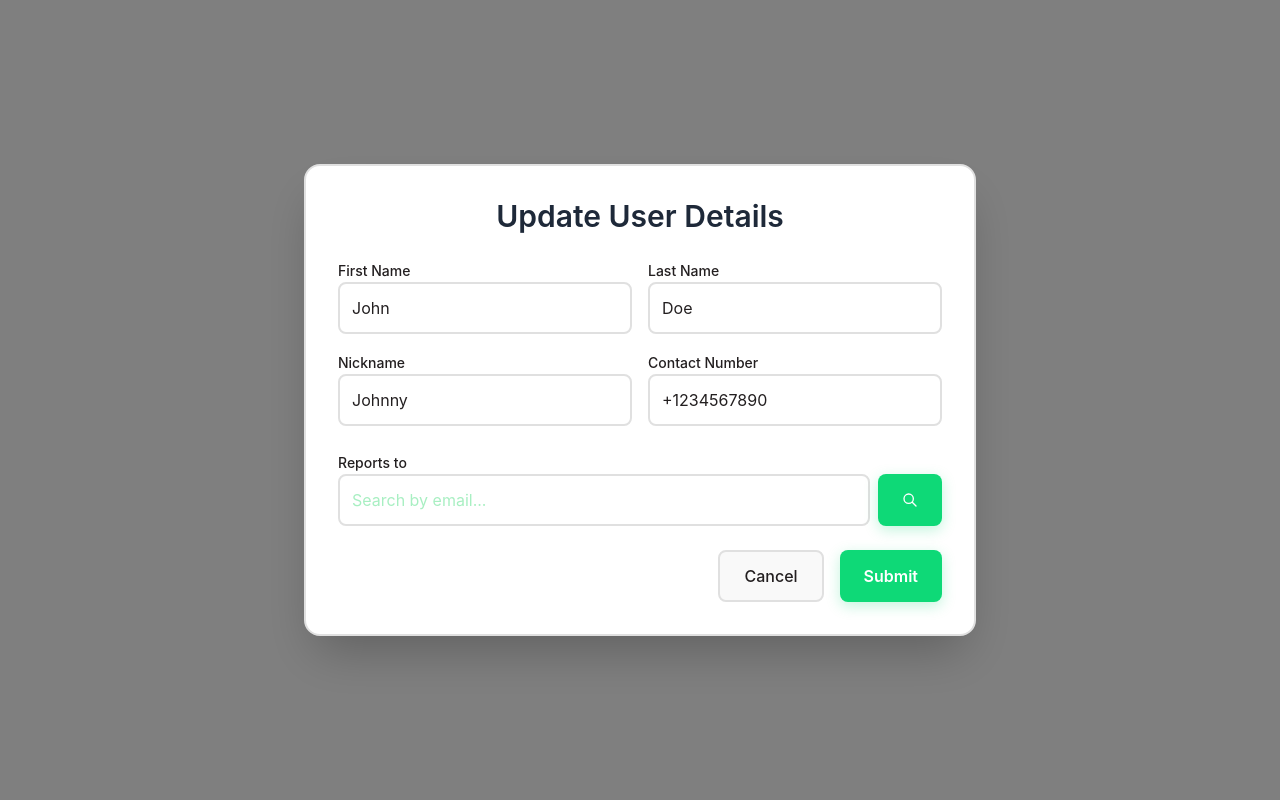
it: AdminUserUpdateModal › should allow selecting a user from search results
The image size is (1280, 800).
// Perform search
In the field with placeholder "Search by email...": {"x": 604, "y": 500} left=338, top=474, right=870, bottom=526, type "manager"
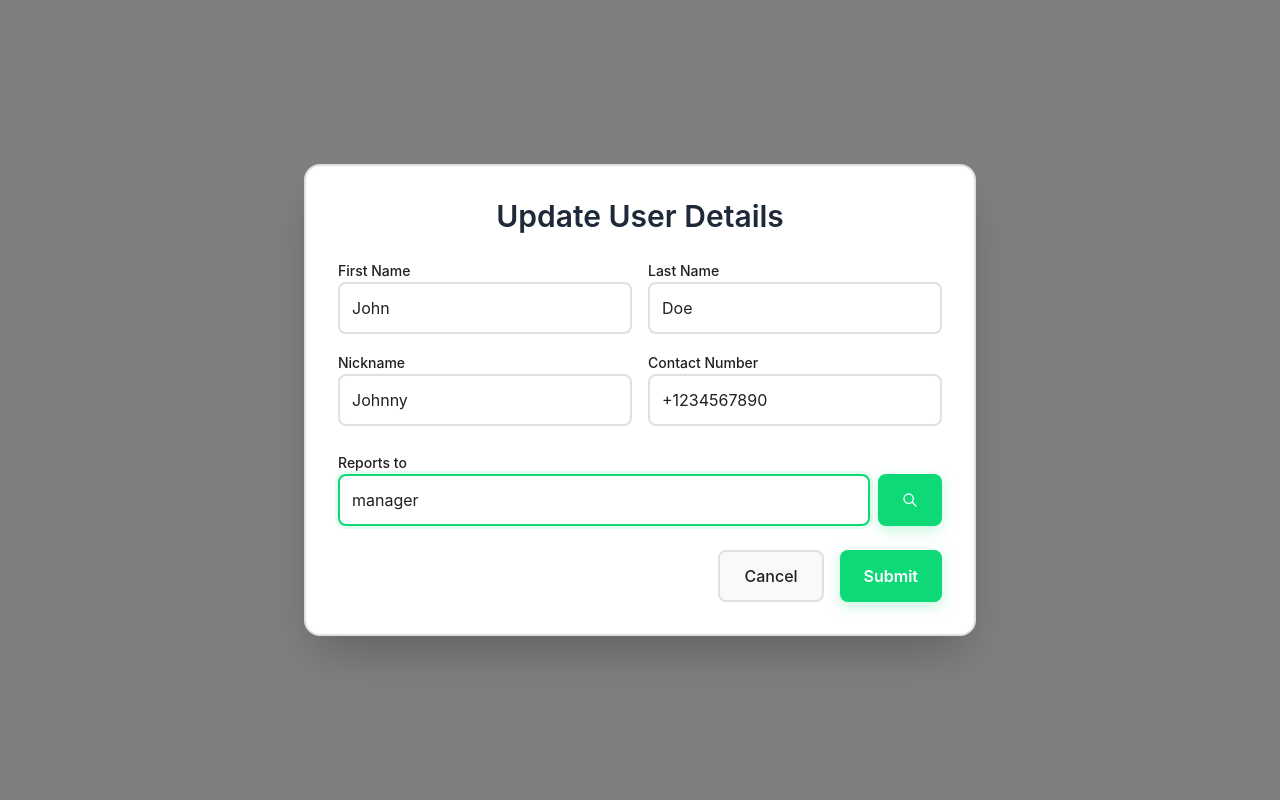
Click the button named "Search users": {"x": 910, "y": 500} left=878, top=474, right=942, bottom=526
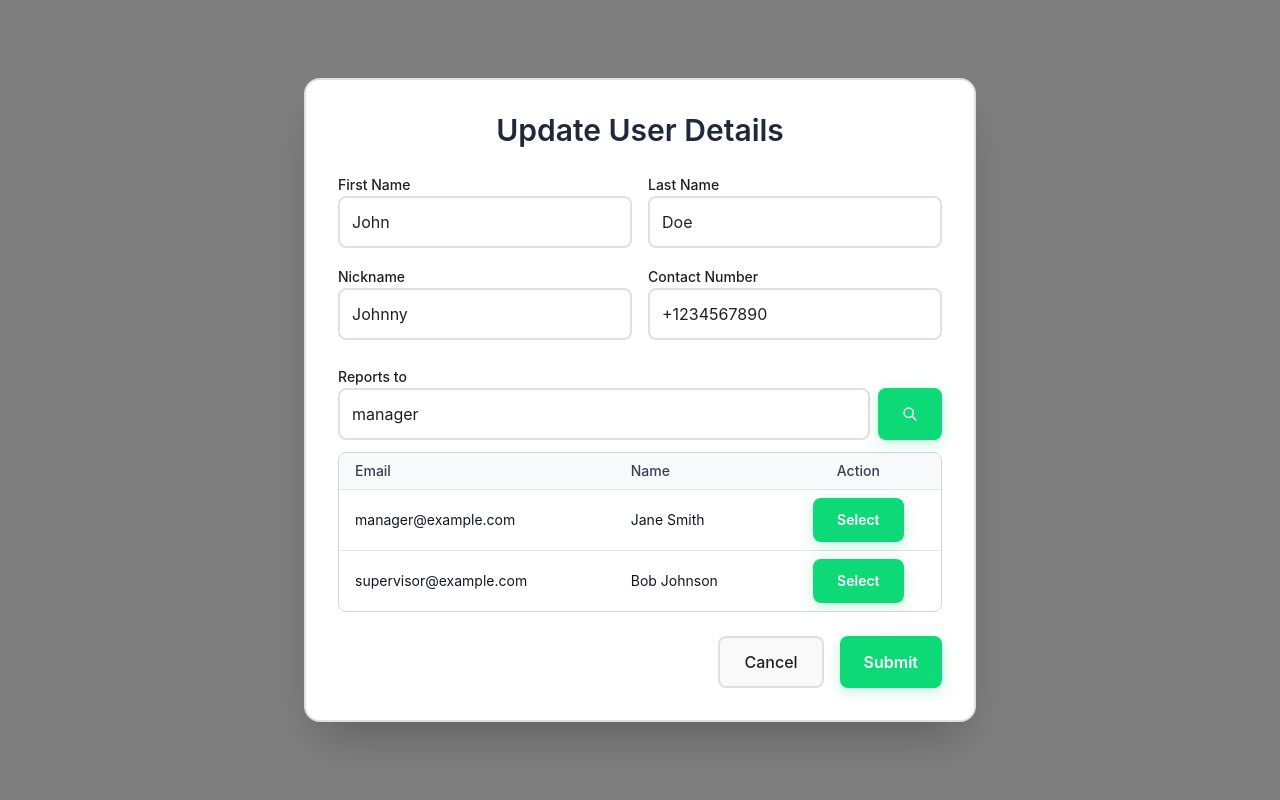
Expected: the text "manager@example.com" is shown, left=339, top=490, right=615, bottom=550
// Click select button
Click the button "Select" in the row of "manager@example.com": {"x": 858, "y": 520} left=813, top=498, right=904, bottom=542
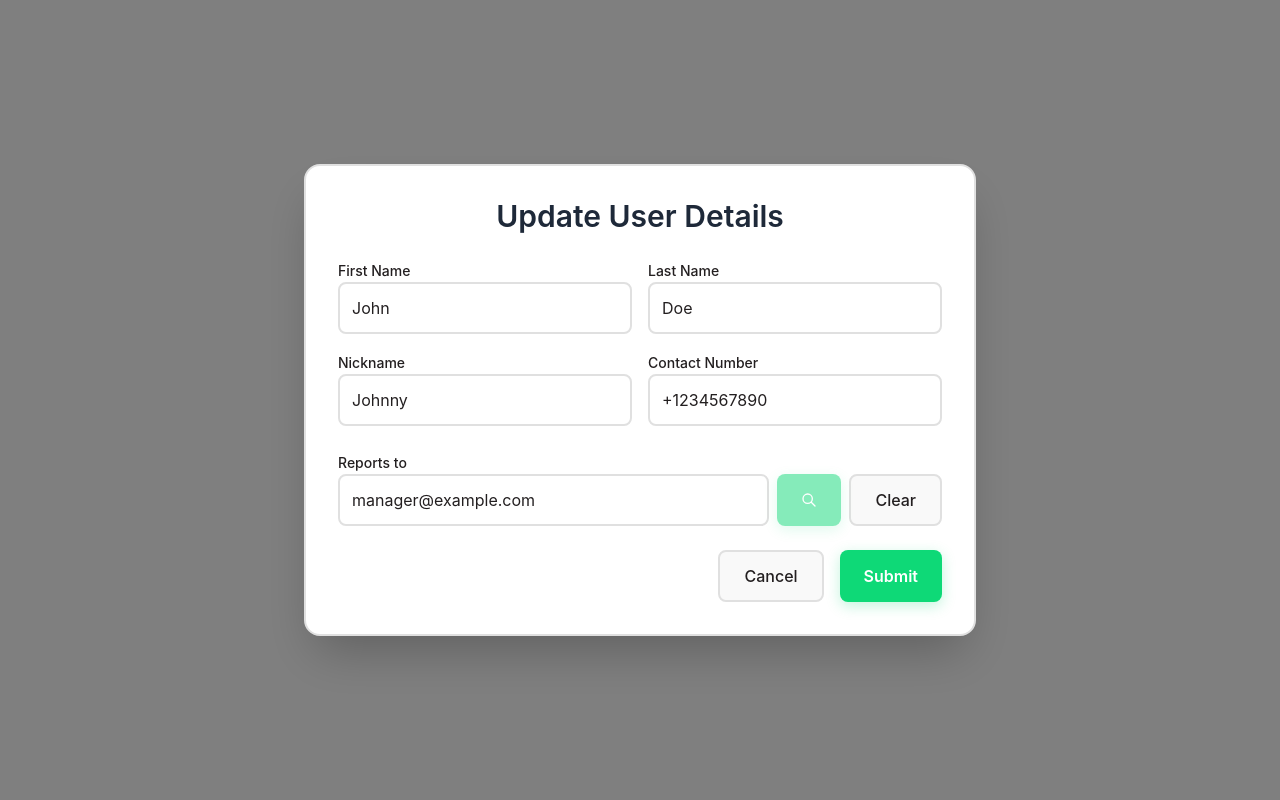
Expected: the field labelled "Reports to" holds "manager@example.com", left=338, top=474, right=769, bottom=526
